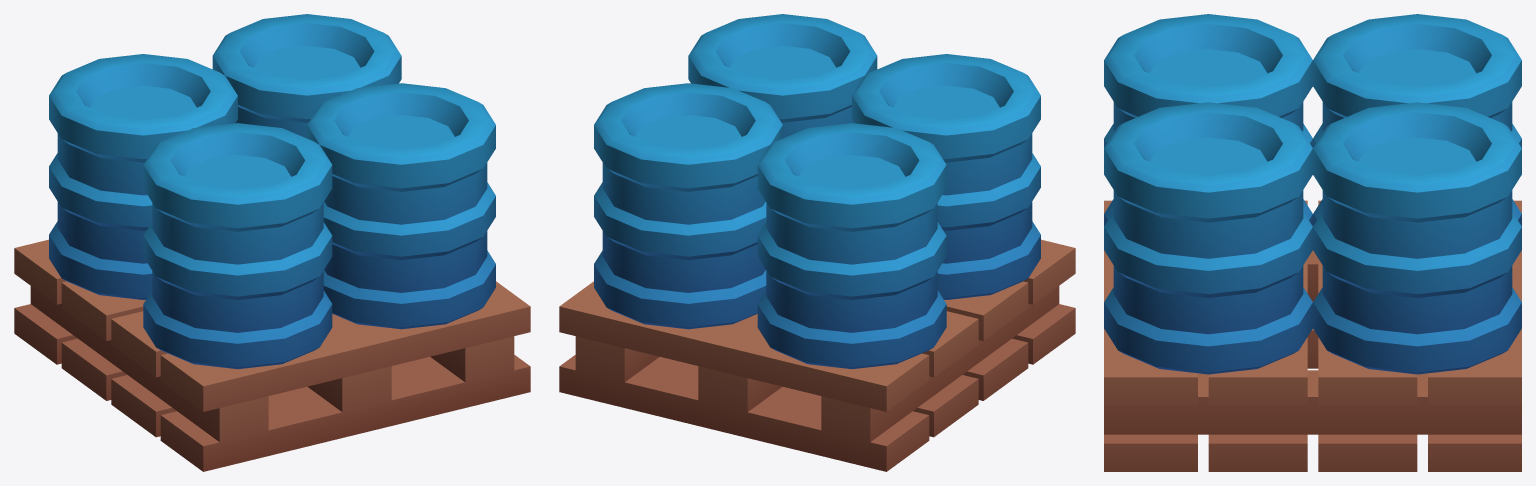
Rendered from Pallet_Small_Decorated_A.glb.
3 views of the same model, side by side, from view 1: azimuth 30°, elevation 25°; view 2: azimuth 150°, elevation 25°; view 3: azimuth 270°, elevation 25° (orthographic). The views are drawn at different scales.
Visible parts, largest first — view 1: Pallet_Small_Decorated_A; view 2: Pallet_Small_Decorated_A; view 3: Pallet_Small_Decorated_A.
Boxes of the visible parts, <box> form: Pallet_Small_Decorated_A: <box>14,14,530,471</box>; Pallet_Small_Decorated_A: <box>559,14,1075,471</box>; Pallet_Small_Decorated_A: <box>1104,14,1521,471</box>.
Bounding box in the file's own units: 2 × 1.5 × 2.
Materials: 1 (1 with a texture image).
